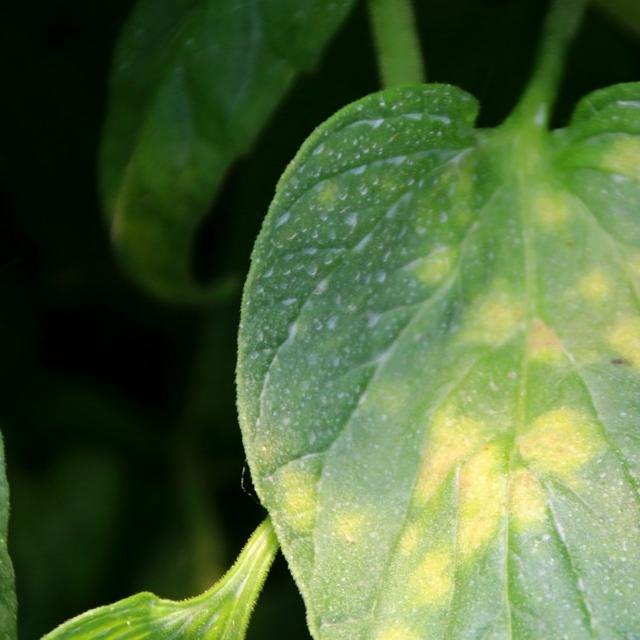Tomato mold leaf: (251, 48, 640, 640)
